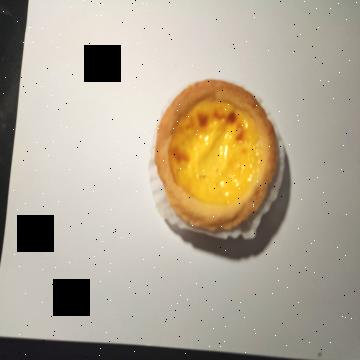EggTart: (155, 77, 279, 232)
